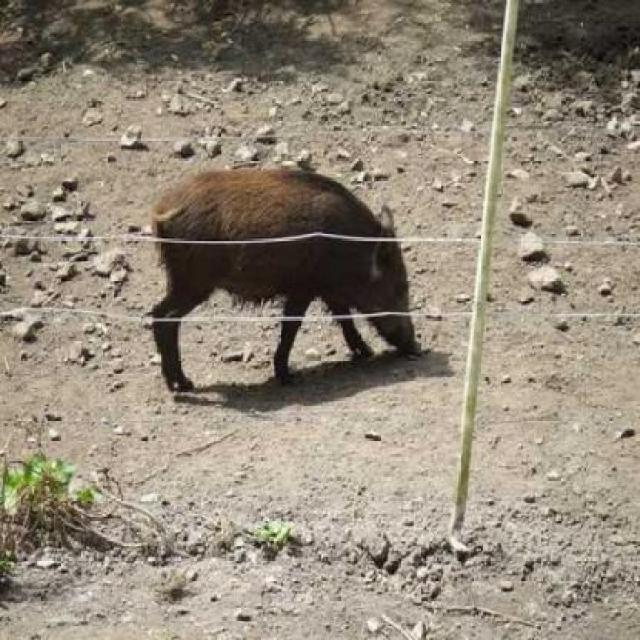pig: (126, 143, 469, 411)
